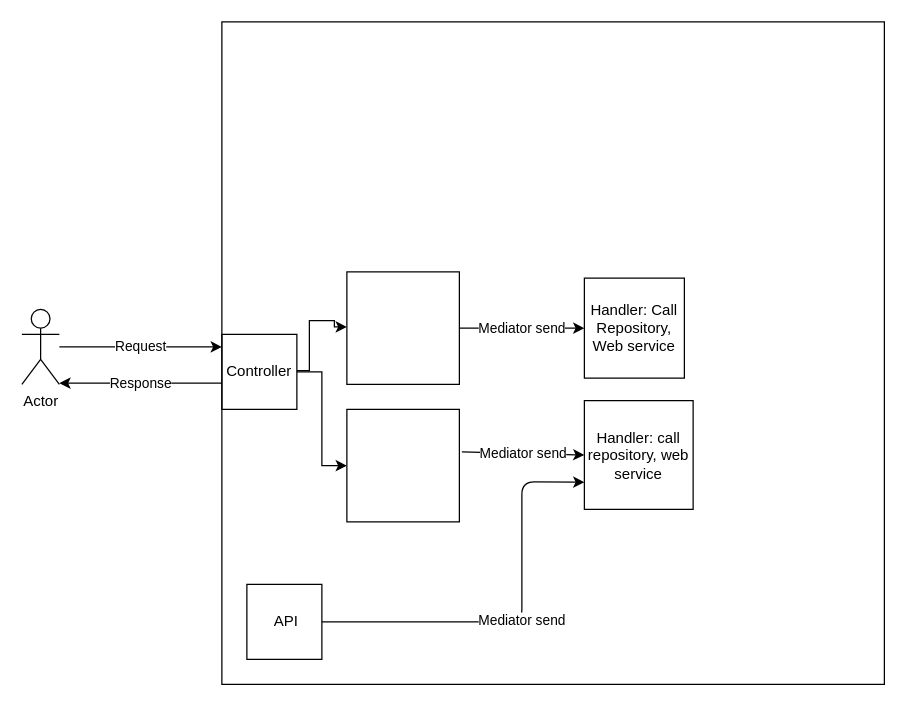
This 906x706 diagram has some shape labels left out. Each missing label, with the centre of its shape:
"Order service (handle request, response like API)" belongs at pixel 402 327.
"User Service (Handle request response like API)" belongs at pixel 402 465.
